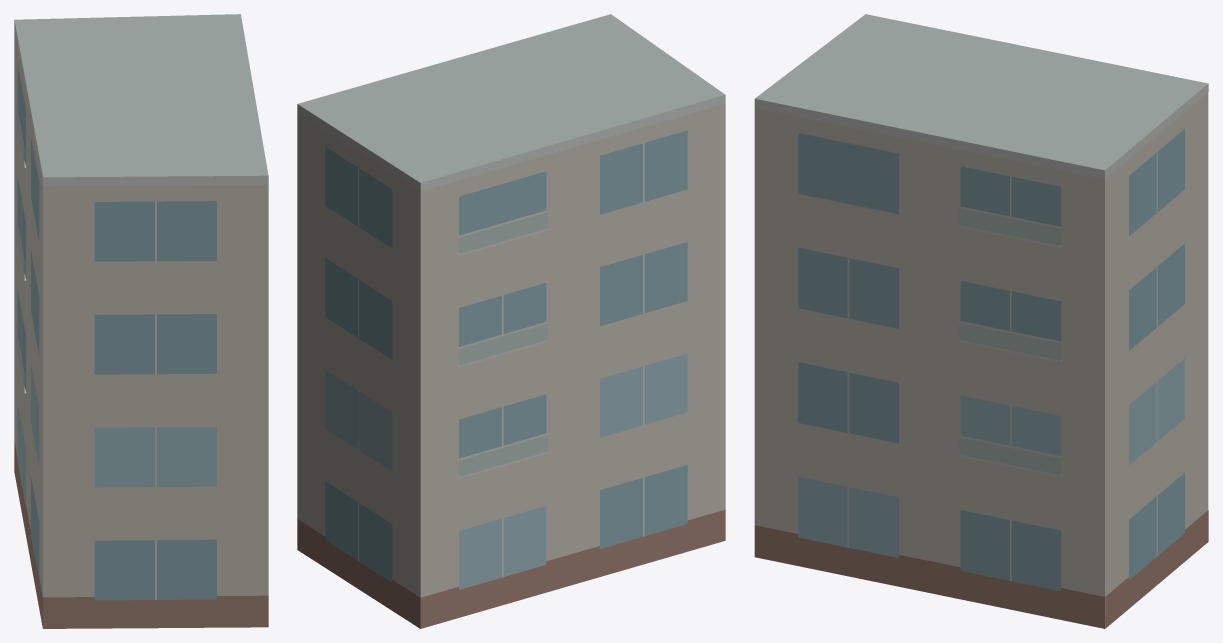
The model's file is survey-upis-32727880.glb.
3 views of the same model, side by side, from view 1: azimuth 30°, elevation 25°; view 2: azimuth 150°, elevation 25°; view 3: azimuth 270°, elevation 25° (orthographic). The views are drawn at different scales.
Parts seen in each view (by area): view 1: survey-upis-32727880.tmp; view 2: survey-upis-32727880.tmp; view 3: survey-upis-32727880.tmp.
Part boxes in pixels (bbox=[...]): survey-upis-32727880.tmp: bbox=[14, 14, 268, 628]; survey-upis-32727880.tmp: bbox=[297, 14, 725, 628]; survey-upis-32727880.tmp: bbox=[754, 14, 1208, 628].
Bounding box in the file's own units: 9.08 × 12.4 × 11.13.
